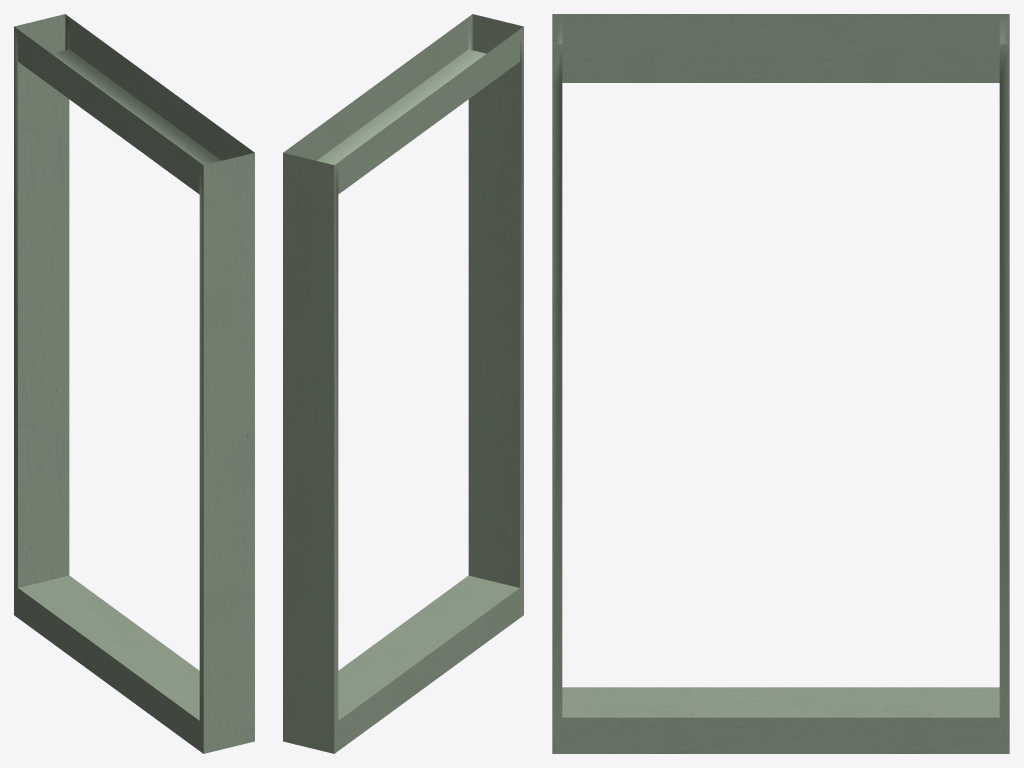
File: SM_WW6_Frame001.fbx
3 views of the same model, side by side, from view 1: azimuth 30°, elevation 25°; view 2: azimuth 150°, elevation 25°; view 3: azimuth 270°, elevation 25° (orthographic). The views are drawn at different scales.
Visible parts, largest first — view 1: SM_WW6_Frame001; view 2: SM_WW6_Frame001; view 3: SM_WW6_Frame001.
Boxes of the visible parts, left/top/right/bottom form: SM_WW6_Frame001: left=14, top=14, right=254, bottom=753; SM_WW6_Frame001: left=283, top=14, right=523, bottom=753; SM_WW6_Frame001: left=552, top=14, right=1009, bottom=753.
Bounding box in the file's own units: 23.07 × 148 × 253.
1 material, 1 textured.
